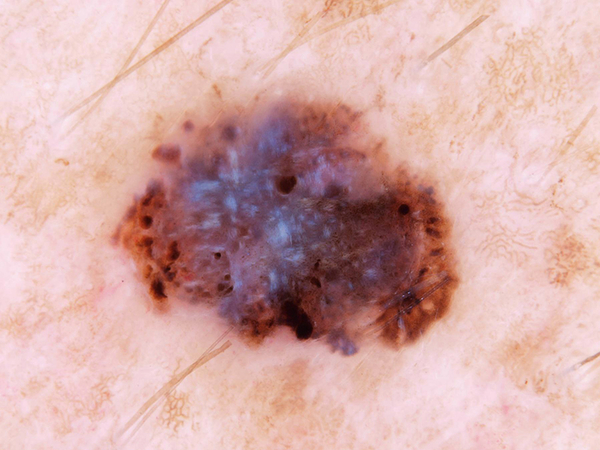Detected Lesion: (109, 101, 471, 354)
